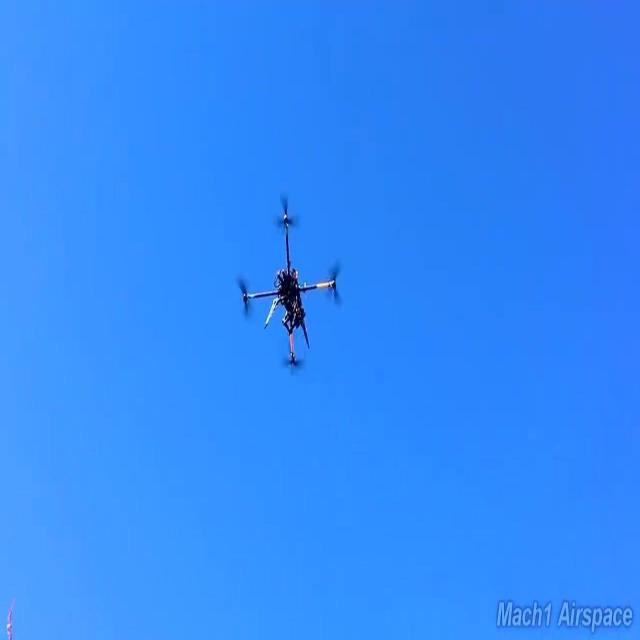drone: (237, 200, 343, 373)
